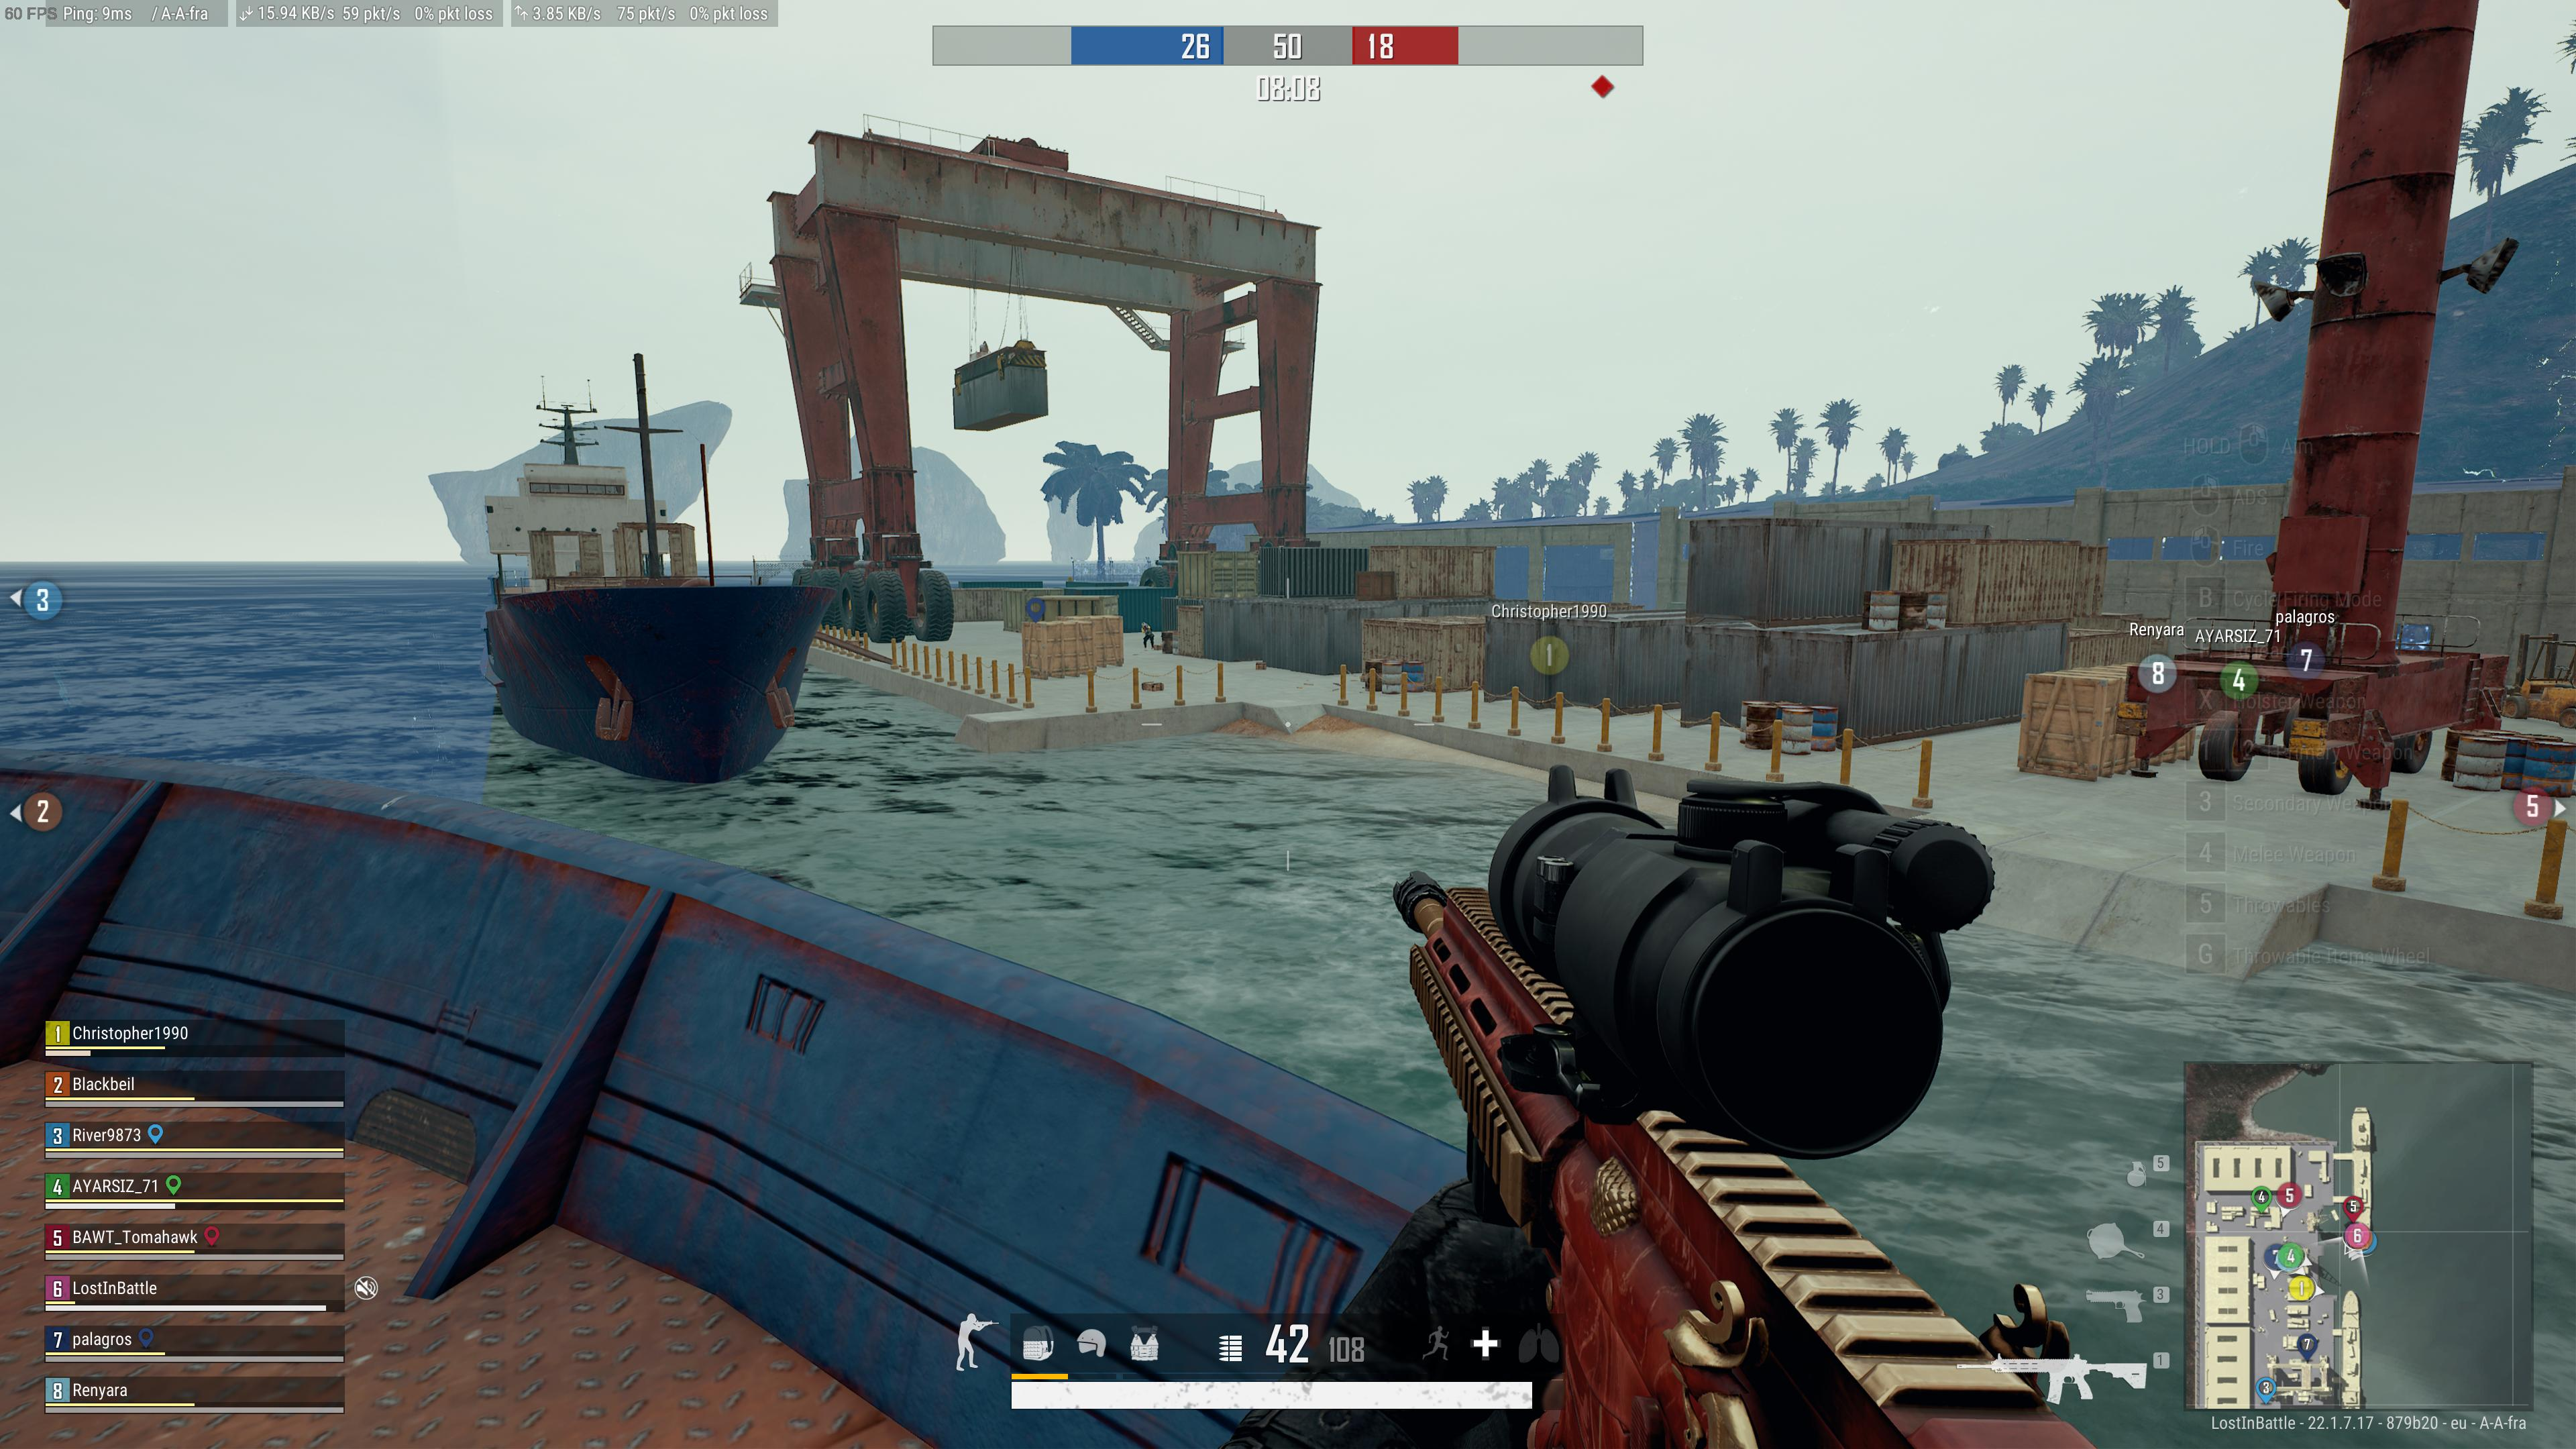enemy: (1141, 621, 1155, 651)
enemy_head: (1141, 621, 1146, 628)
